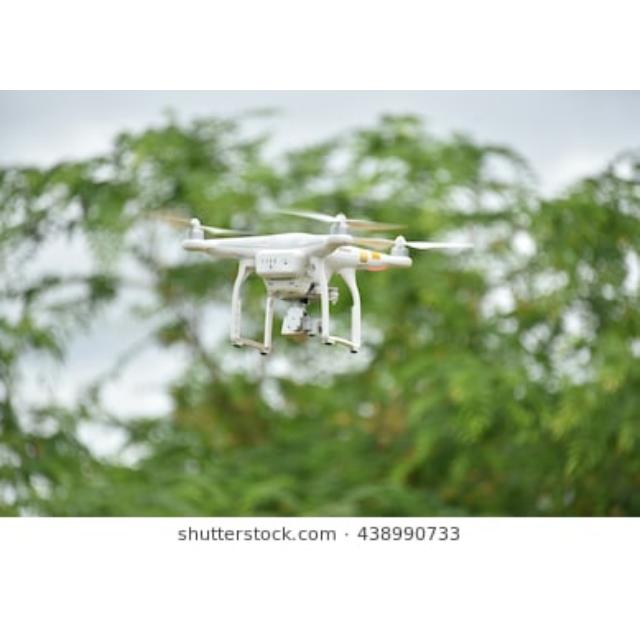Drones: (163, 210, 443, 362)
